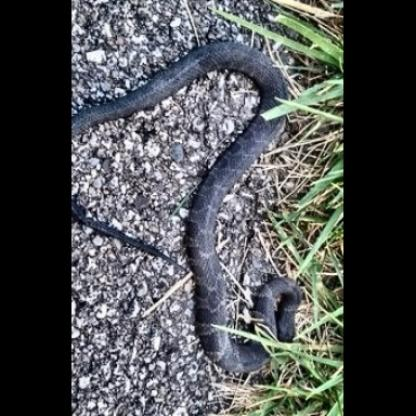Snake: (165, 24, 332, 386)
